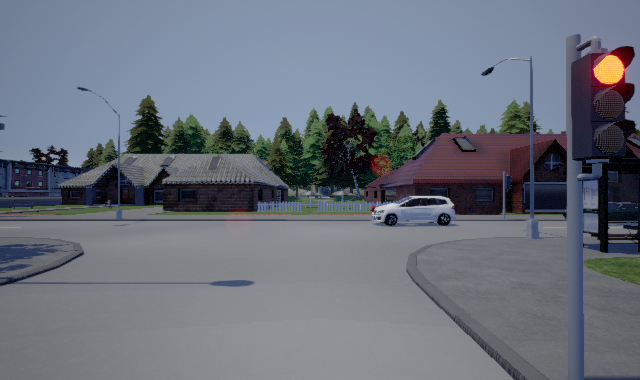traffic_light: (571, 36, 636, 181)
vehicle: (372, 196, 456, 226)
